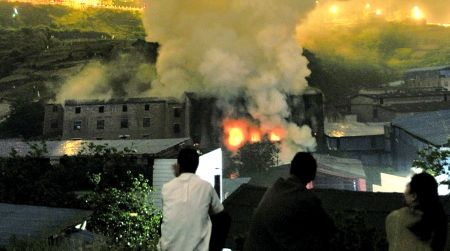fire: (224, 116, 299, 153)
smoke: (146, 5, 307, 90)
